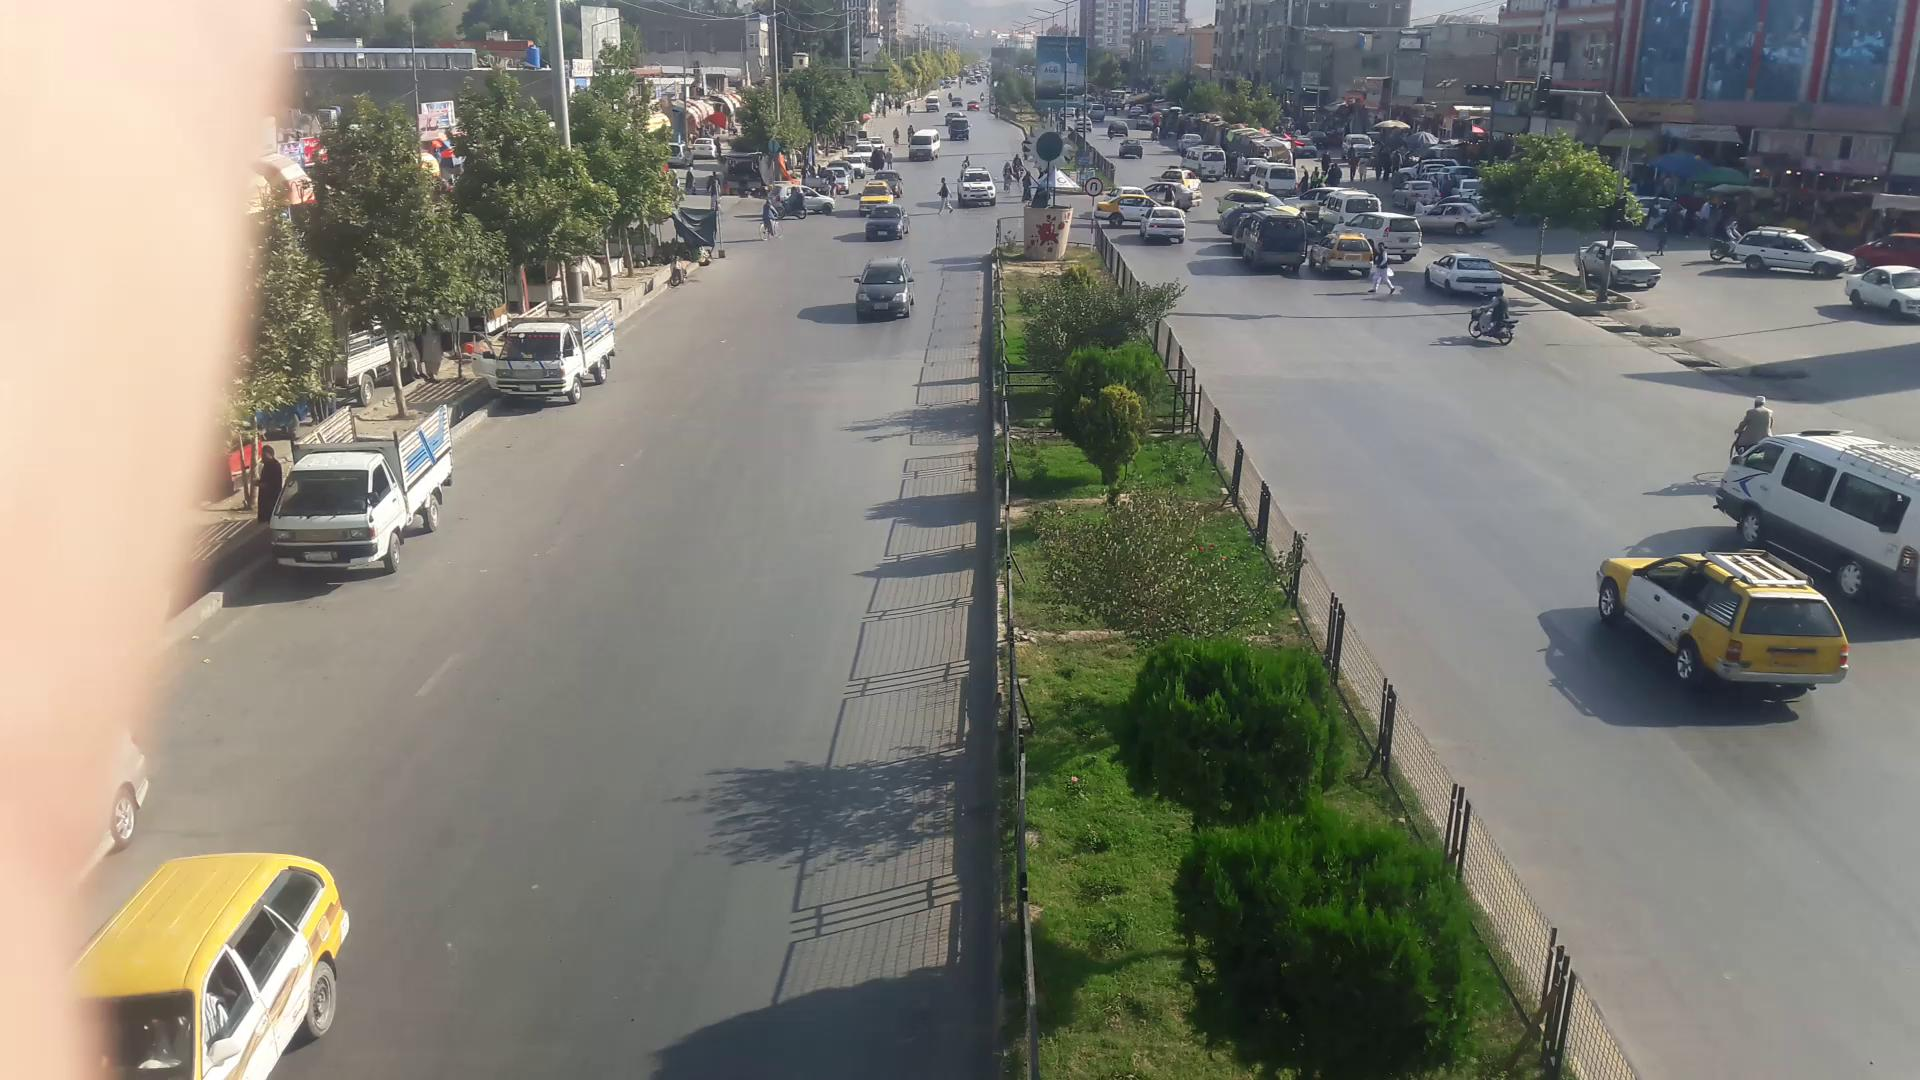car: (113, 844, 353, 1076), (1604, 547, 1846, 700), (1724, 434, 1920, 593), (1726, 227, 1851, 276), (1580, 240, 1667, 297), (1844, 264, 1917, 319), (856, 262, 918, 320), (1427, 255, 1505, 301), (1847, 229, 1917, 272), (1416, 202, 1498, 235), (864, 204, 910, 240), (1137, 210, 1183, 243), (951, 173, 993, 206), (907, 133, 940, 161)
truck: (266, 444, 417, 575), (458, 302, 617, 398)
